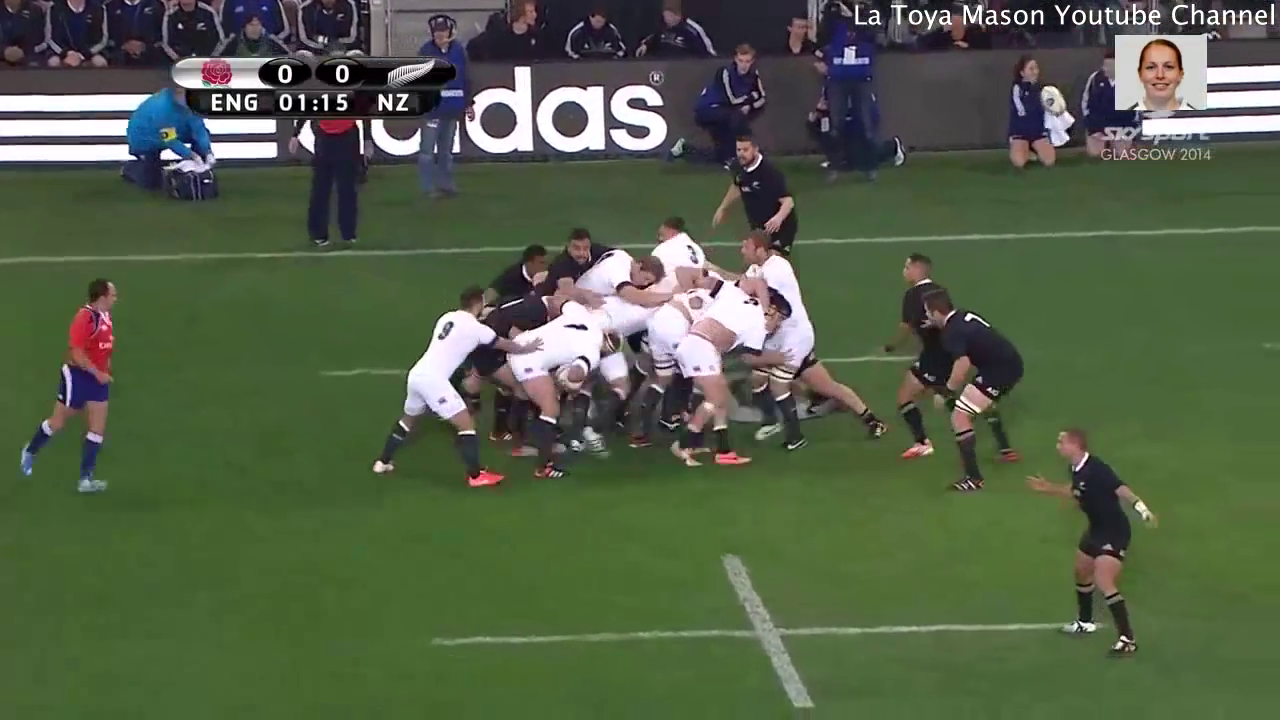10_metre: (422, 550, 1142, 720)
ball: (550, 352, 588, 399)
player: (359, 282, 544, 495), (1012, 417, 1164, 673), (7, 268, 139, 508), (910, 278, 1037, 504), (655, 285, 791, 476), (503, 295, 630, 486), (726, 224, 823, 467), (869, 247, 957, 466), (698, 130, 803, 265), (633, 214, 724, 302), (476, 236, 553, 309), (548, 231, 619, 302)
